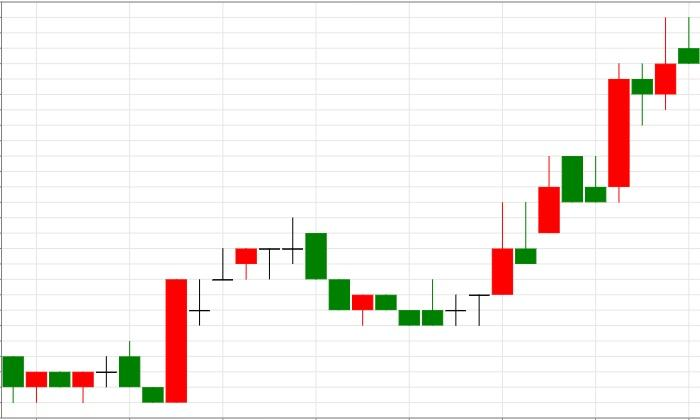shooting_star_fall: (492, 18, 676, 295)
